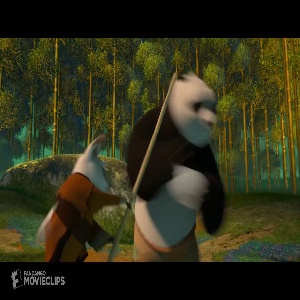po: (125, 66, 227, 261)
shifu: (37, 133, 121, 262)
